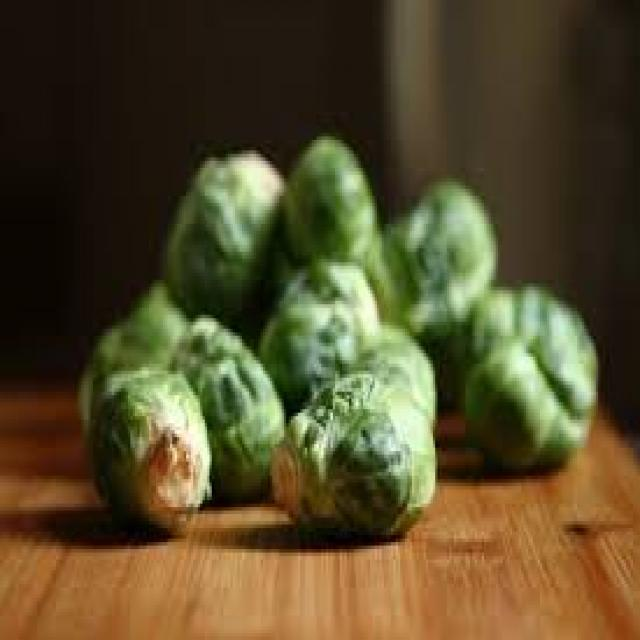organic waste: (266, 360, 438, 539), (365, 175, 496, 402), (444, 280, 596, 468), (158, 143, 289, 329), (168, 311, 282, 504), (86, 364, 207, 535), (254, 252, 377, 419), (77, 276, 191, 437), (280, 130, 380, 284), (344, 322, 436, 426), (253, 245, 296, 311)
